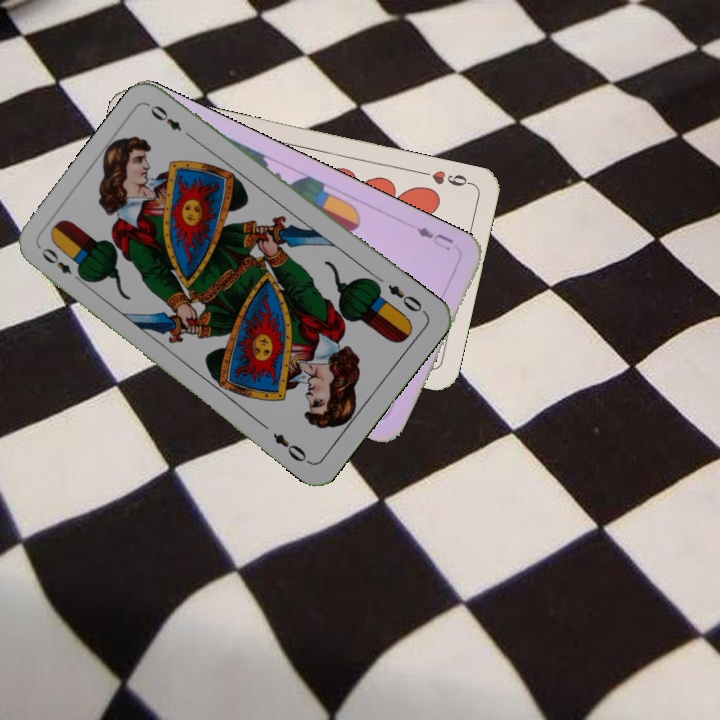EO: (37, 243, 87, 286), (383, 280, 429, 317)
EU: (412, 223, 457, 253)
H9: (416, 166, 475, 189)
